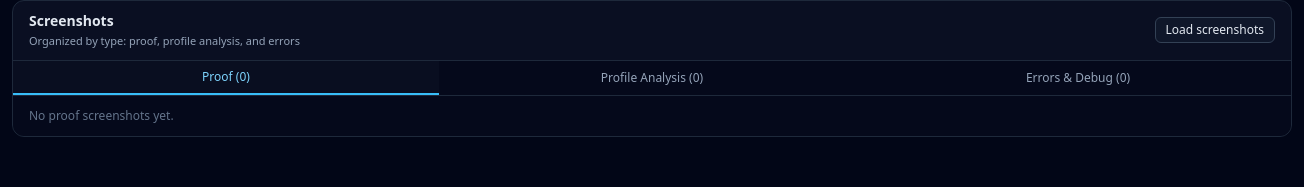
Screenshots › displays error message when network fails
The width and height of the screenshot is (1304, 187).
Click the button "Load screenshots" at (1215, 30), box [1154,17,1275,43]
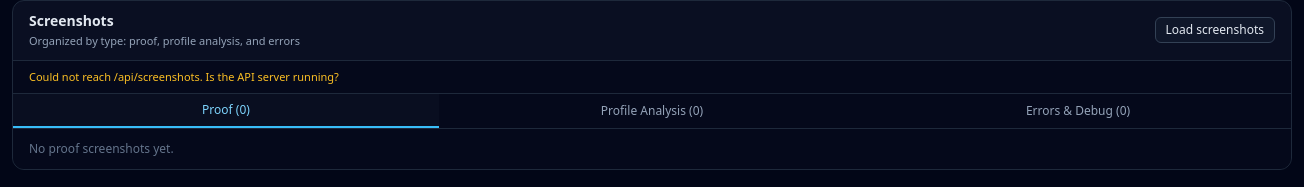
Check: the text "Could not reach /api/screenshots. Is the API server running?" is shown, box [13,60,1291,94]
